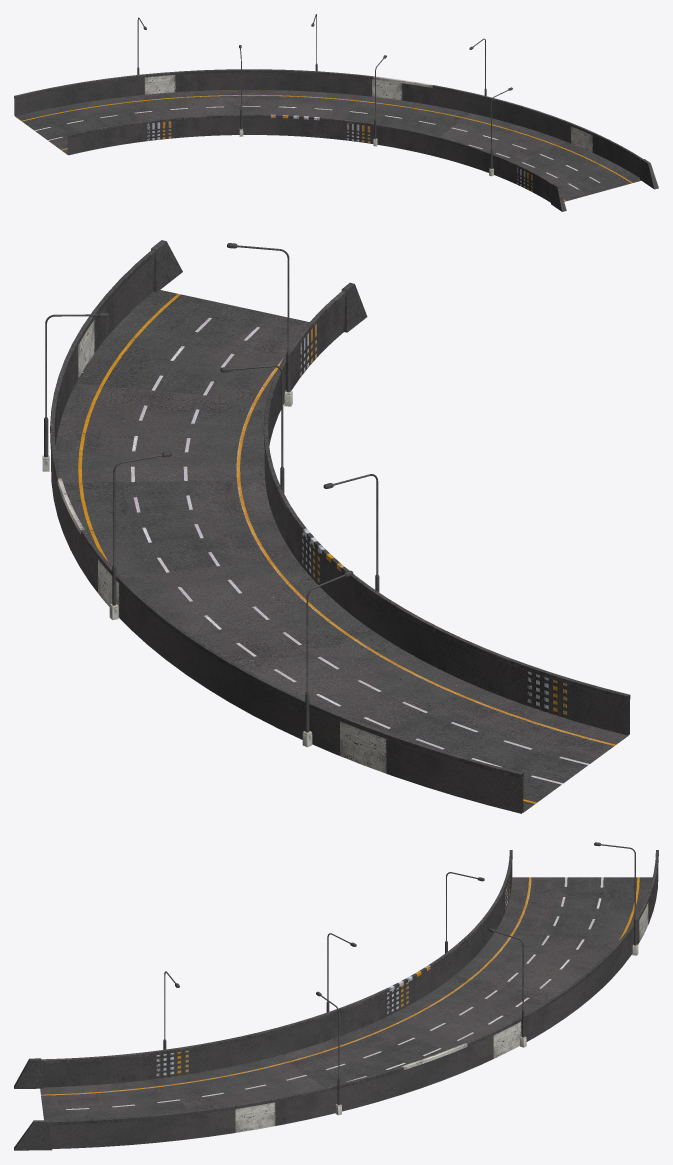
The model's file is roadU.FBX.
The picture shows the model from 3 angles, top to bottom: view 1: azimuth 30°, elevation 25°; view 2: azimuth 150°, elevation 25°; view 3: azimuth 270°, elevation 25°; orthographic projection. The views are drawn at different scales.
Parts seen in each view (by area): view 1: 道路17; view 2: 道路17; view 3: 道路17.
Boxes of the visible parts, box(x1,y1,x2,y2) form: 道路17: box(14, 14, 658, 211); 道路17: box(42, 240, 630, 813); 道路17: box(14, 842, 658, 1150).
Bounding box in the file's own units: 2117 × 387 × 2111.
1 material, 1 textured.
